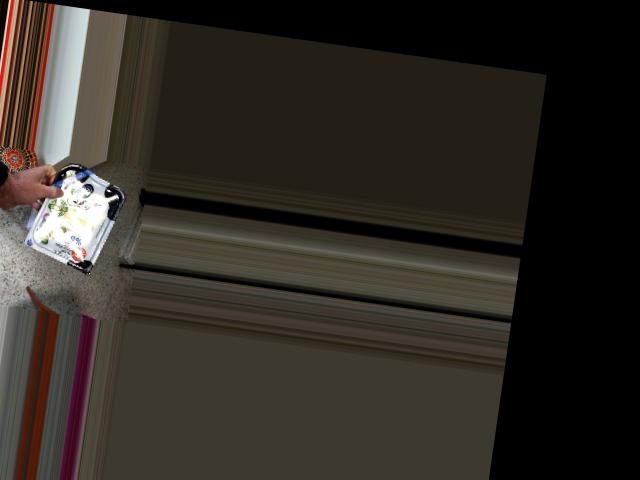cheese: (40, 166, 118, 264)
